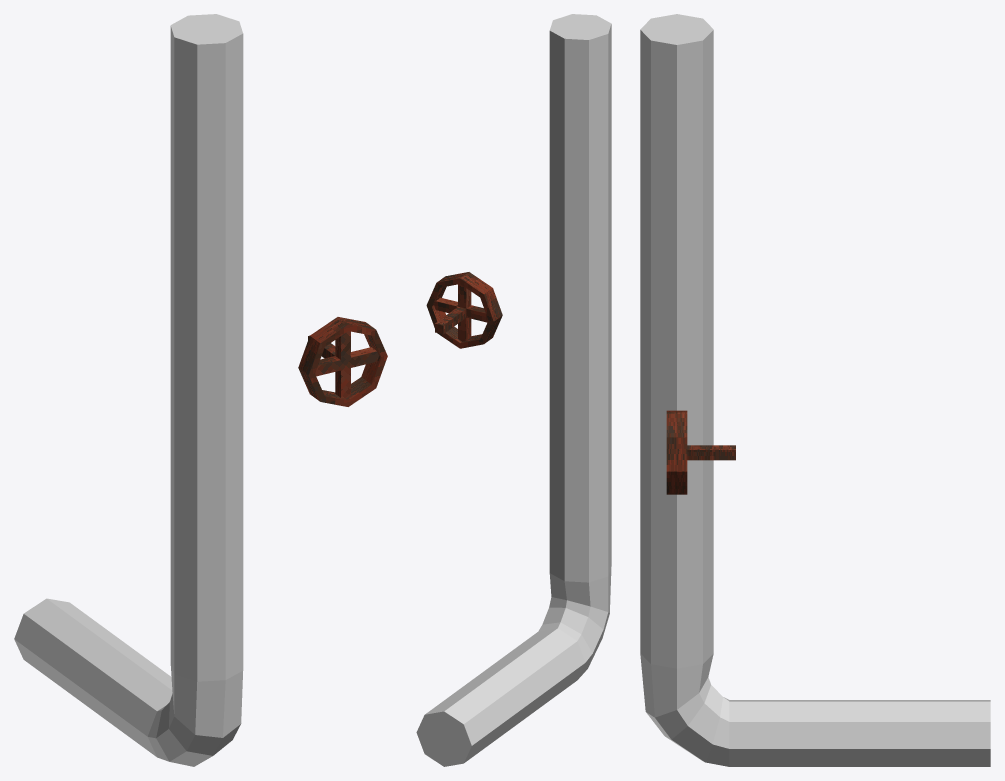
Rendered from cano e valvula.fbx.
3 renders of one model, left to right at view 1: azimuth 30°, elevation 25°; view 2: azimuth 150°, elevation 25°; view 3: azimuth 270°, elevation 25°, orthographic. The views are drawn at different scales.
Parts seen in each view (by area): view 1: cano, valvula; view 2: cano, valvula; view 3: cano, valvula.
Part boxes in pixels (bbox=[...]): cano: bbox=[14, 14, 243, 766]; valvula: bbox=[298, 317, 387, 406]; cano: bbox=[416, 14, 611, 766]; valvula: bbox=[426, 272, 502, 348]; cano: bbox=[640, 14, 990, 766]; valvula: bbox=[666, 410, 735, 494].
Size of the model in its own units: 298 by 1028 by 444.
